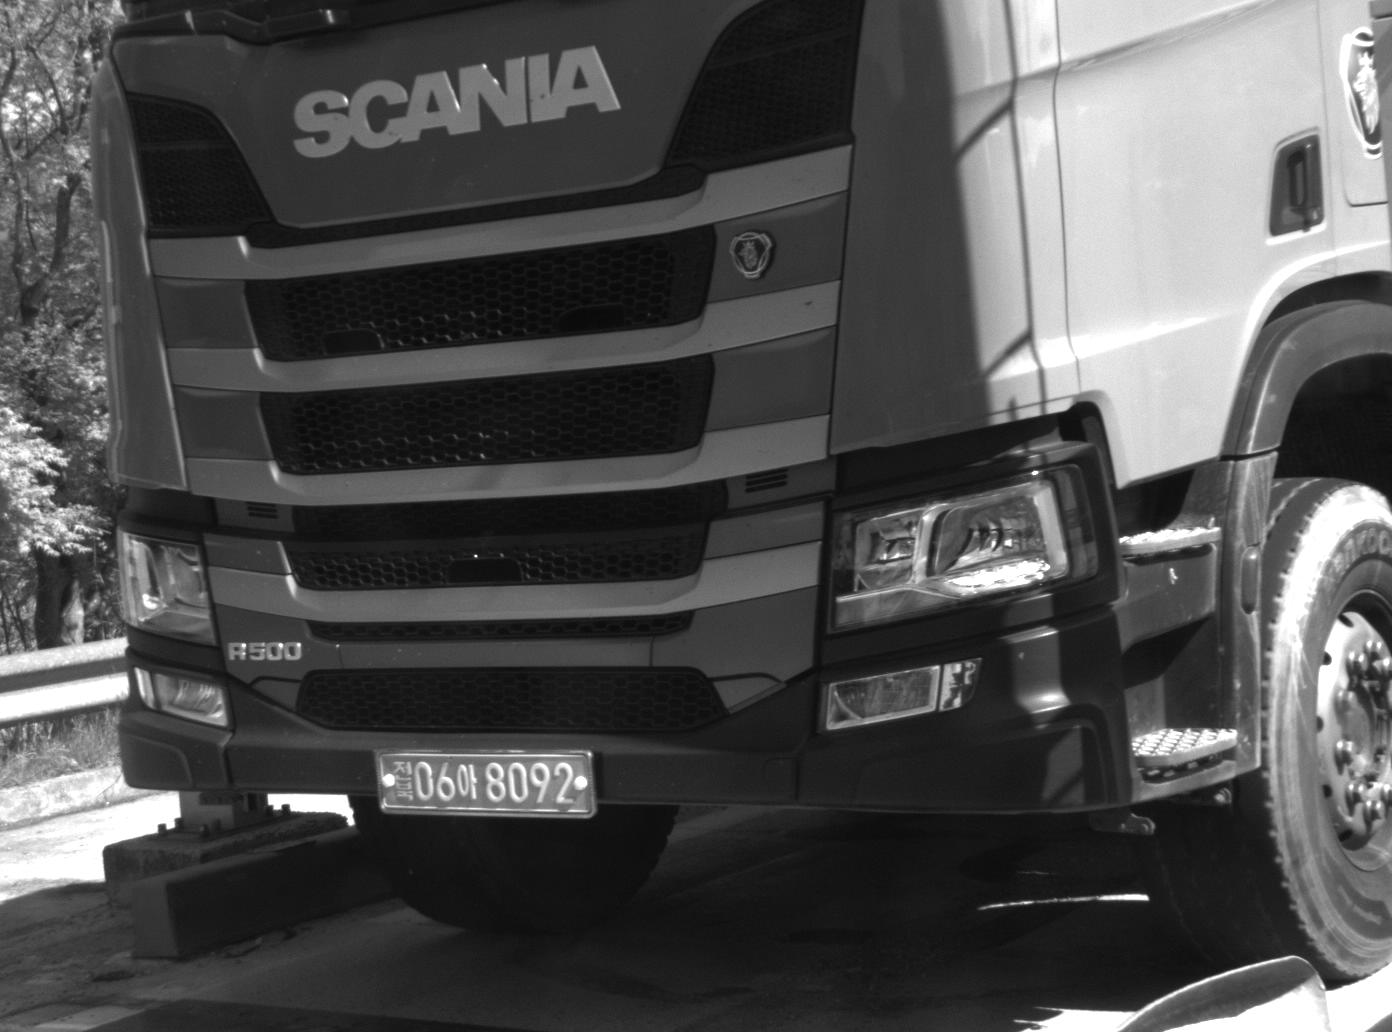car: (92, 1, 1392, 990)
plate: (369, 743, 605, 825)
